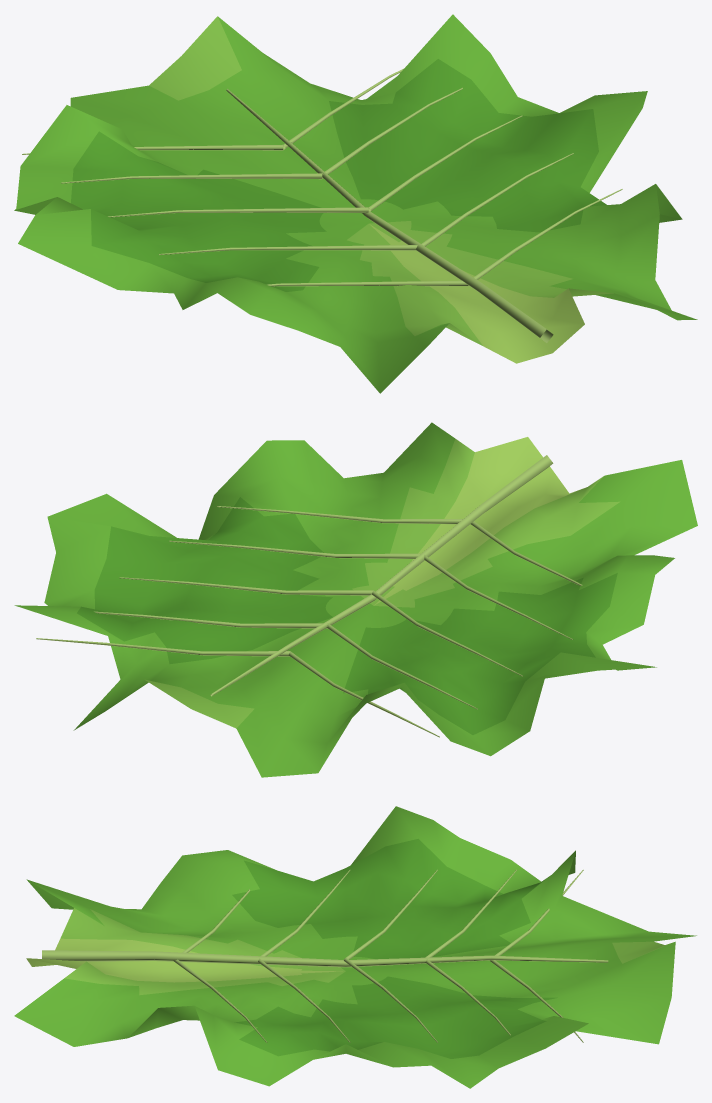
Rendered from lettuce_leaf.glb.
3 renders of one model, top to bottom at view 1: azimuth 30°, elevation 25°; view 2: azimuth 150°, elevation 25°; view 3: azimuth 270°, elevation 25°, orthographic. The views are drawn at different scales.
Parts seen in each view (by area): view 1: Crisp lettuce leaf, Leaf vein, Leaf vein.002, Leaf vein.003, Leaf vein.004, Leaf vein.001, Leaf vein.005, Leaf vein.008, Leaf vein.007, Leaf vein.006, Leaf vein.009; view 2: Crisp lettuce leaf, Leaf vein, Leaf vein.008, Leaf vein.007, Leaf vein.010, Leaf vein.006, Leaf vein.009, Leaf vein.003, Leaf vein.004, Leaf vein.002, Leaf vein.005; view 3: Crisp lettuce leaf, Leaf vein.
Boxes of the visible parts, x1=… form: Crisp lettuce leaf: x1=14, y1=14, x2=697, y2=393; Leaf vein: x1=226, y1=89, x2=553, y2=342; Leaf vein.002: x1=159, y1=245, x2=417, y2=254; Leaf vein.003: x1=108, y1=207, x2=368, y2=217; Leaf vein.004: x1=61, y1=173, x2=322, y2=183; Leaf vein.001: x1=267, y1=280, x2=468, y2=286; Leaf vein.005: x1=22, y1=144, x2=283, y2=154; Leaf vein.008: x1=368, y1=115, x2=522, y2=211; Leaf vein.007: x1=421, y1=153, x2=573, y2=246; Leaf vein.006: x1=473, y1=189, x2=622, y2=279; Leaf vein.009: x1=322, y1=87, x2=462, y2=178; Crisp lettuce leaf: x1=14, y1=422, x2=697, y2=777; Leaf vein: x1=210, y1=455, x2=553, y2=696; Leaf vein.008: x1=119, y1=577, x2=373, y2=595; Leaf vein.007: x1=169, y1=540, x2=420, y2=558; Leaf vein.010: x1=36, y1=638, x2=289, y2=656; Leaf vein.006: x1=217, y1=506, x2=462, y2=524; Leaf vein.009: x1=94, y1=611, x2=327, y2=628; Leaf vein.003: x1=372, y1=590, x2=522, y2=676; Leaf vein.004: x1=327, y1=623, x2=477, y2=709; Leaf vein.002: x1=424, y1=554, x2=572, y2=639; Leaf vein.005: x1=289, y1=651, x2=439, y2=737; Crisp lettuce leaf: x1=14, y1=806, x2=696, y2=1088; Leaf vein: x1=42, y1=950, x2=608, y2=967.
Bounding box in the file's own units: 0.1487 × 0.0193 × 0.1642.
